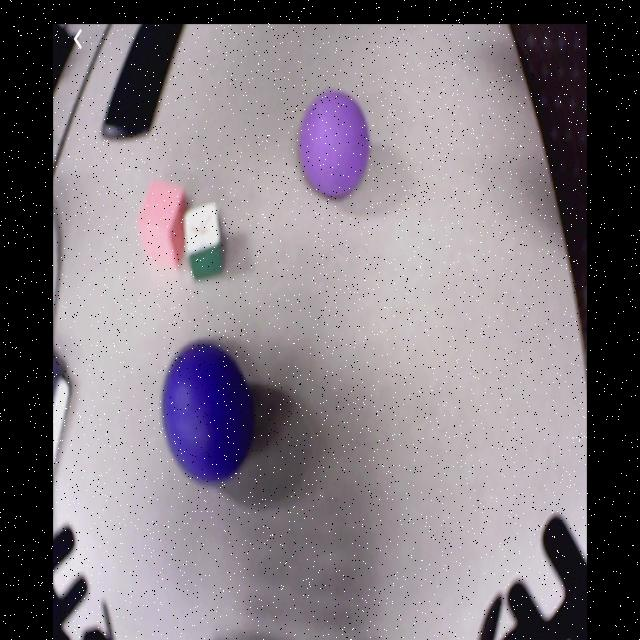ball: (165, 344, 251, 483), (301, 93, 371, 199)
